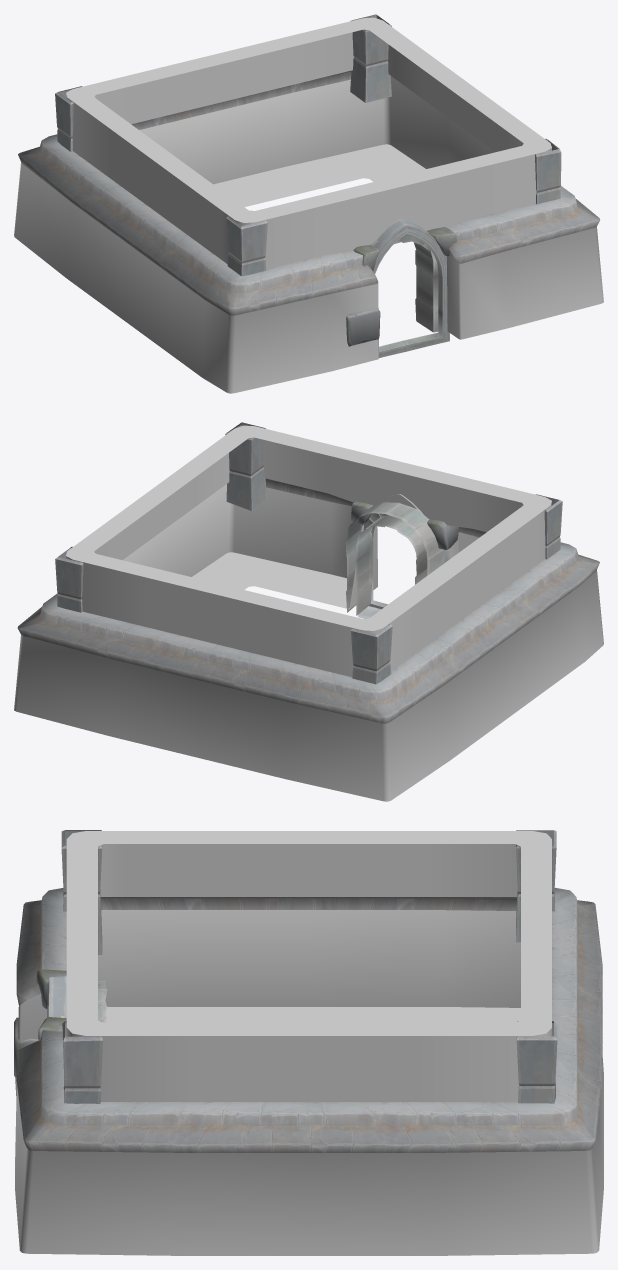
The model's file is SM_TowerE_Bottom.fbx.
3 renders of one model, top to bottom at view 1: azimuth 30°, elevation 25°; view 2: azimuth 150°, elevation 25°; view 3: azimuth 270°, elevation 25°, orthographic. The views are drawn at different scales.
Parts seen in each view (by area): view 1: SM_TowerE_Bottom_LOD0; view 2: SM_TowerE_Bottom_LOD0; view 3: SM_TowerE_Bottom_LOD0.
Boxes of the visible parts, x1,y1,x2,y2 form: SM_TowerE_Bottom_LOD0: (14, 14, 603, 393); SM_TowerE_Bottom_LOD0: (14, 422, 603, 801); SM_TowerE_Bottom_LOD0: (14, 830, 603, 1255).
Size of what is drawn, in the model's own units: 12.14 by 5.02 by 12.16.
